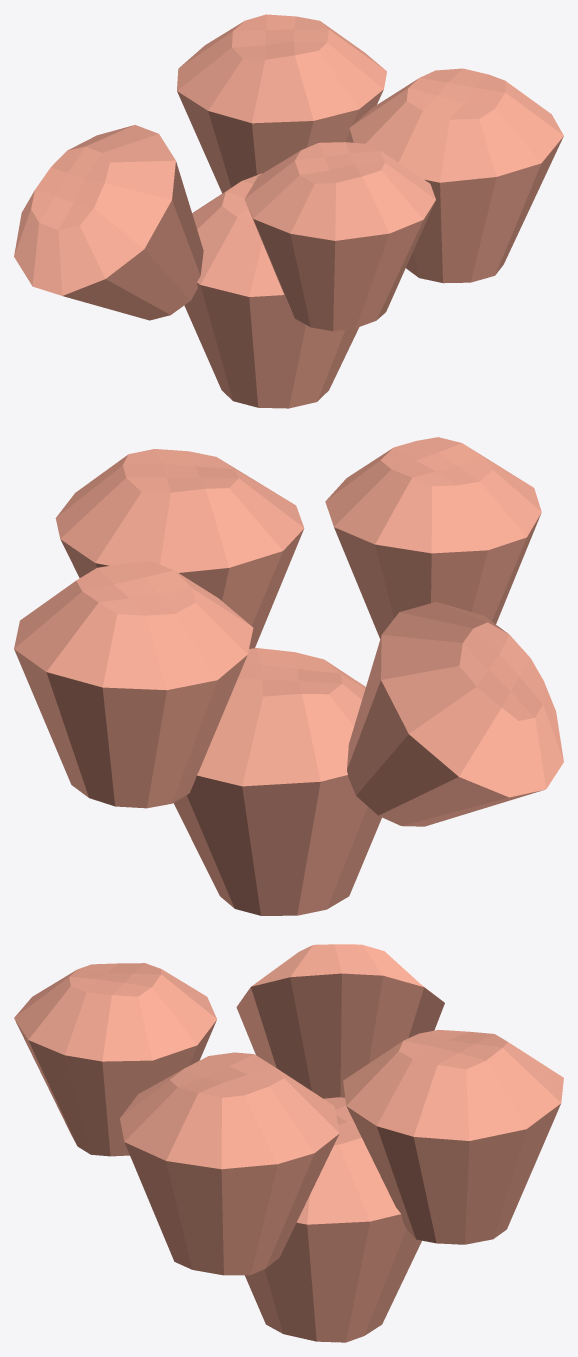
The model's file is Cake in Bow.fbx.
3 renders of one model, top to bottom at view 1: azimuth 30°, elevation 25°; view 2: azimuth 150°, elevation 25°; view 3: azimuth 270°, elevation 25°, orthographic. The views are drawn at different scales.
Parts seen in each view (by area): view 1: oak_tree_export:oak_tree_export:ElwFor_Grass02:SM_fruit_ora. (×3), oak_tree_export:oak_tree_export:ElwFor_Grass02:SM_fruit_oran, oak_tree_export:oak_tree_export:ElwFor_Grass02:SM_fruit_ora; view 2: oak_tree_export:oak_tree_export:ElwFor_Grass02:SM_fruit_ora. (×3), oak_tree_export:oak_tree_export:ElwFor_Grass02:SM_fruit_ora, oak_tree_export:oak_tree_export:ElwFor_Grass02:SM_fruit_oran; view 3: oak_tree_export:oak_tree_export:ElwFor_Grass02:SM_fruit_ora. (×3), oak_tree_export:oak_tree_export:ElwFor_Grass02:SM_fruit_ora, oak_tree_export:oak_tree_export:ElwFor_Grass02:SM_fruit_oran.
Part boxes in pixels (x1,y1,x2,y2): oak_tree_export:oak_tree_export:ElwFor_Grass02:SM_fruit_ora. (×3): (184,68,563,408); oak_tree_export:oak_tree_export:ElwFor_Grass02:SM_fruit_oran: (14,125,203,320); oak_tree_export:oak_tree_export:ElwFor_Grass02:SM_fruit_ora: (177,14,386,193); oak_tree_export:oak_tree_export:ElwFor_Grass02:SM_fruit_ora. (×3): (55,437,541,915); oak_tree_export:oak_tree_export:ElwFor_Grass02:SM_fruit_ora: (14,561,253,808); oak_tree_export:oak_tree_export:ElwFor_Grass02:SM_fruit_oran: (347,602,563,826); oak_tree_export:oak_tree_export:ElwFor_Grass02:SM_fruit_ora. (×3): (14,963,421,1342); oak_tree_export:oak_tree_export:ElwFor_Grass02:SM_fruit_ora: (343,1029,563,1244); oak_tree_export:oak_tree_export:ElwFor_Grass02:SM_fruit_oran: (236,944,444,1098).
Bounding box in the file's own units: 70.24 × 44.71 × 68.29.
